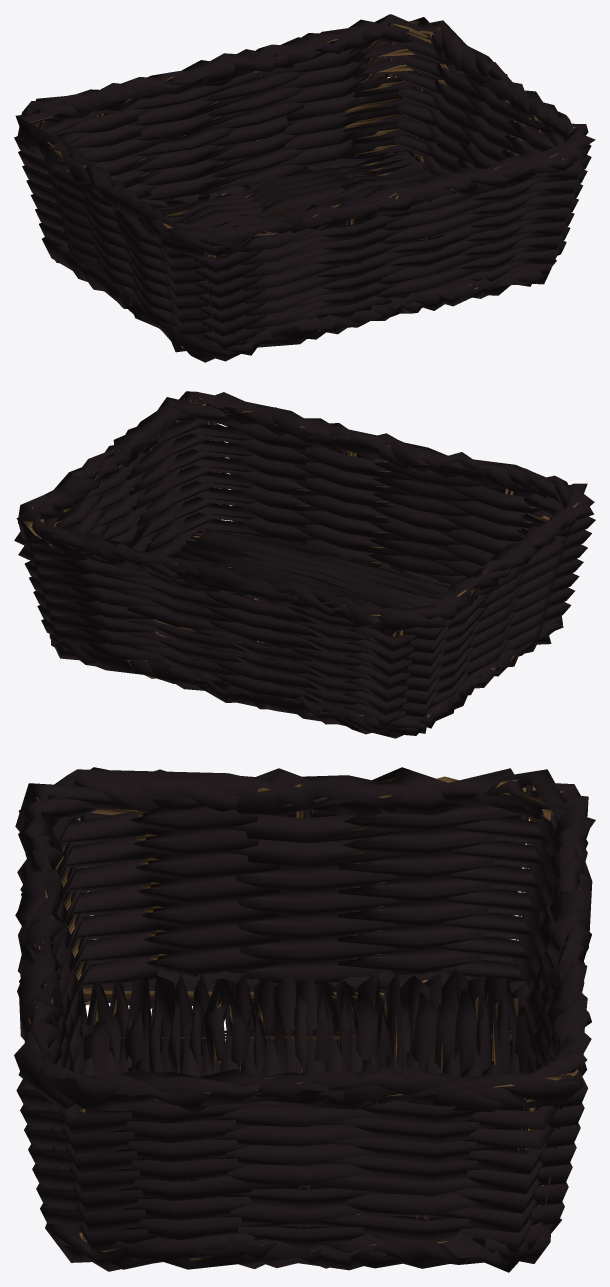
Rendered from SM_Int_Basket.fbx.
3 views of the same model, one above another, from view 1: azimuth 30°, elevation 25°; view 2: azimuth 150°, elevation 25°; view 3: azimuth 270°, elevation 25° (orthographic). The views are drawn at different scales.
Visible parts, largest first — view 1: SM_Int_Basket; view 2: SM_Int_Basket; view 3: SM_Int_Basket.
Boxes of the visible parts, x1,y1,x2,y2 form: SM_Int_Basket: (14,14,595,362); SM_Int_Basket: (14,391,595,738); SM_Int_Basket: (14,767,595,1272).
Size of what is drawn, in the model's own units: 0.5102 by 0.1667 by 0.3933.
